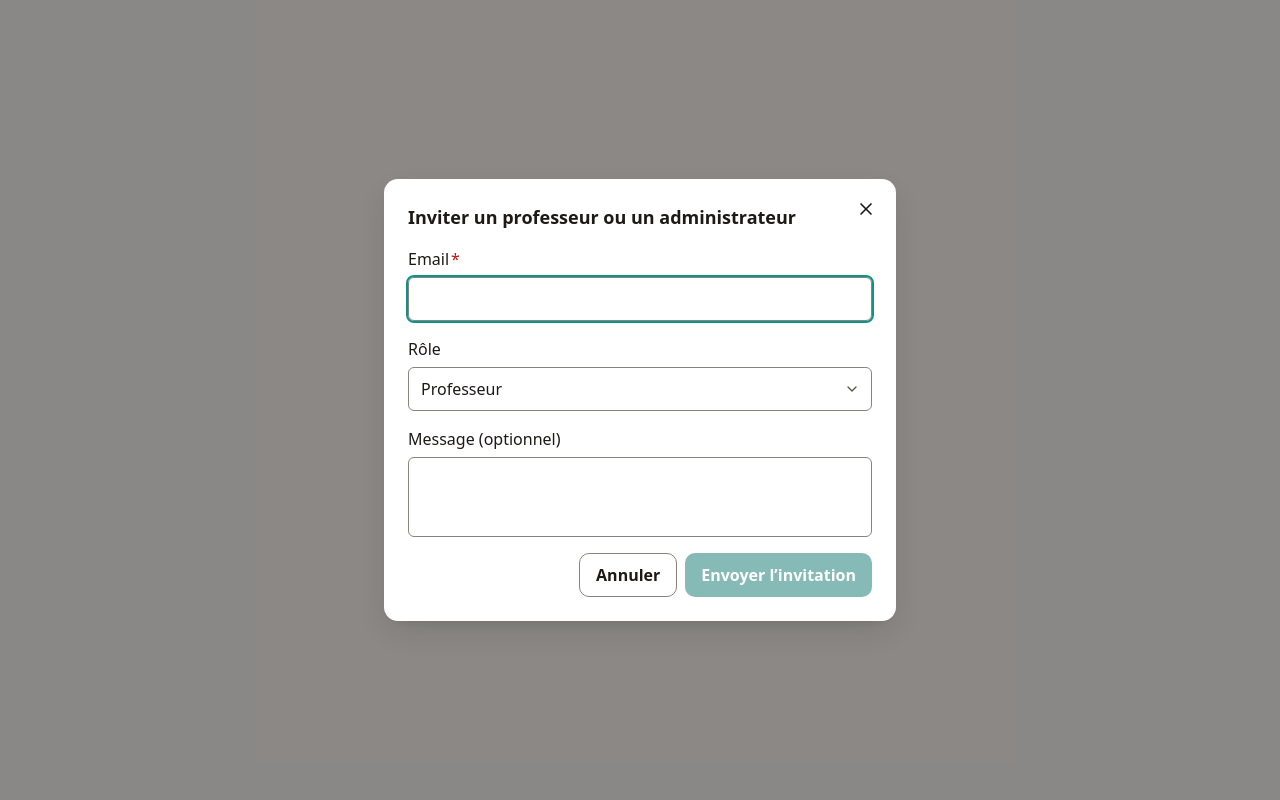
Scenario: InviteStaffDialog › 409 ALREADY_MEMBER is a field error on the email
The image size is (1280, 800).
Type "sara@example.com" into the field labelled "Email". click: (640, 299)
box: [408,277,872,321]
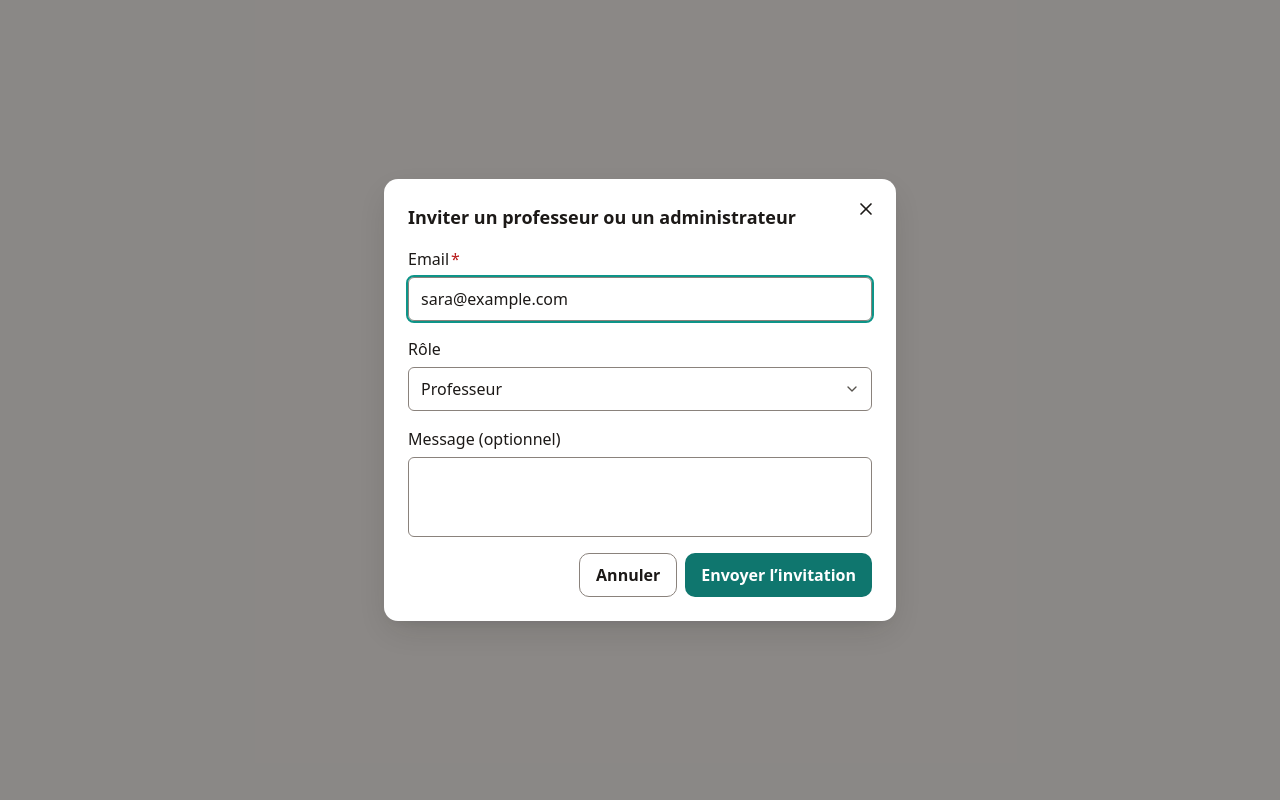
Click the button "Envoyer l’invitation". click: (779, 575)
box: [685,553,872,597]
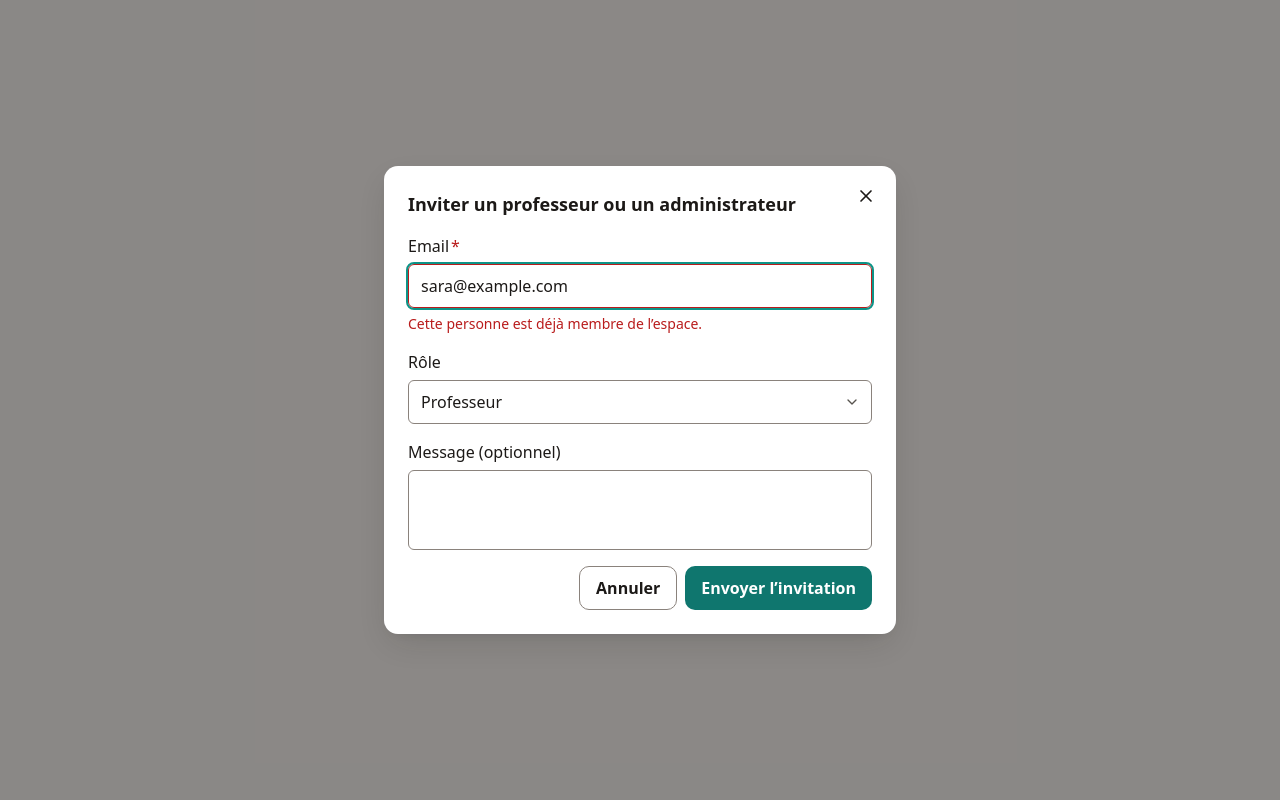
Result: the text "Cette personne est déjà membre de l’espace." is shown at [408,314,702,333]
